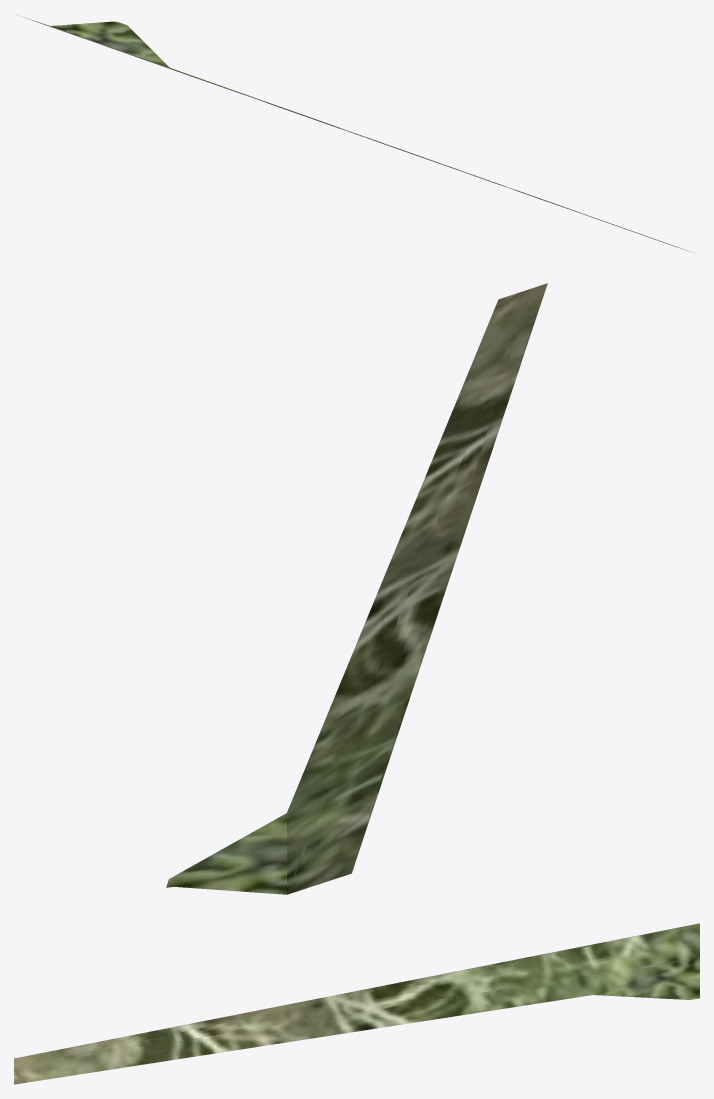
3 views of the same model, one above another, from view 1: azimuth 30°, elevation 25°; view 2: azimuth 150°, elevation 25°; view 3: azimuth 270°, elevation 25° (orthographic). The views are drawn at different scales.
Size of the model in its own units: 1.34 by 0.1414 by 2.95.
Materials: 1 (1 with a texture image).
